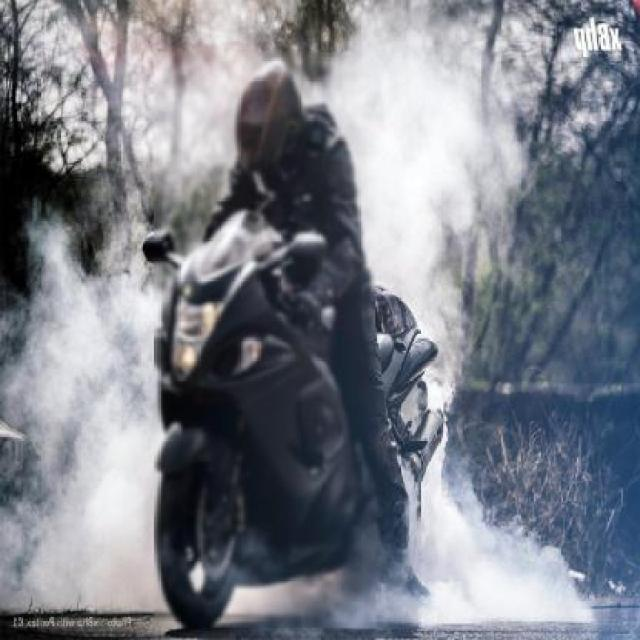helmet: (224, 56, 324, 204)
motorcycle: (110, 56, 468, 640)
